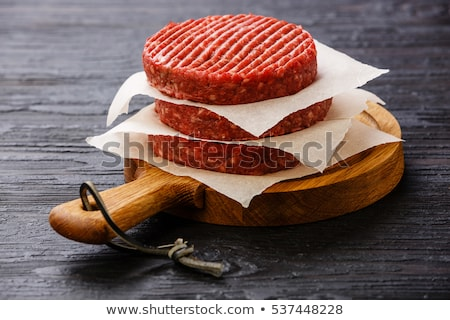ground_beef: (147, 29, 341, 194)
